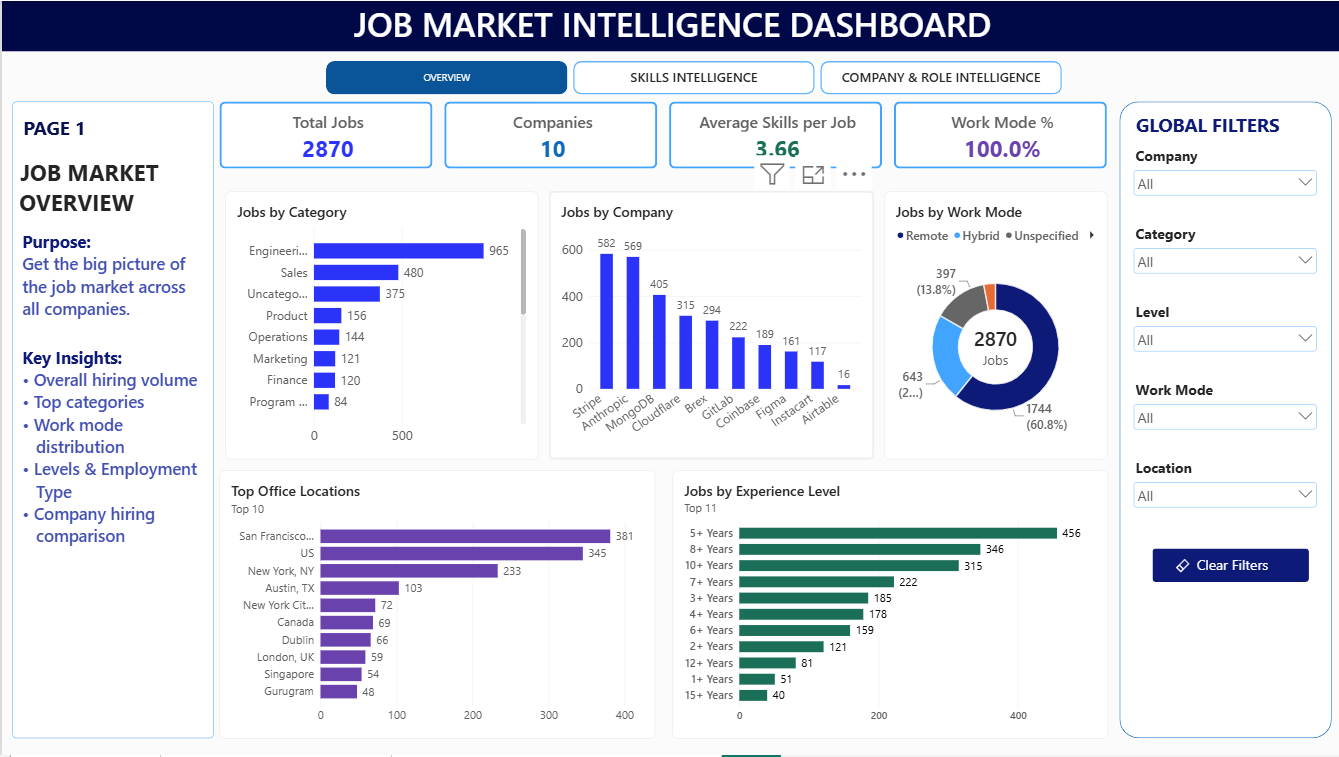

What the dashboard file says about the page in this screenshot:
{"tool":"powerbi","page":{"name":"OVERVIEW","canvas":[1920,1080],"ordinal":0},"visuals":[{"type":"textbox","box":[0,0,1920,72],"z":0},{"type":"cardVisual","fields":{"Data":["_Measures.Total Jobs","_Measures.Companies Hiring","_Measures.Average Skills per Job","_Measures.Work Mode %"]},"box":[312,144,1272,96],"z":2000},{"type":"clusteredBarChart","title":"Jobs by Category","fields":{"Category":["jobs.category"],"Y":["_Measures.Total Jobs"]},"box":[320,272,448,384],"z":3000},{"type":"clusteredColumnChart","title":"Jobs by Company","fields":{"Category":["companies.company_name"],"Y":["_Measures.Total Jobs"]},"box":[784,272,464,384],"z":4000},{"type":"donutChart","title":"Jobs by Work Mode","fields":{"Category":["jobs.work_mode"],"Y":["_Measures.Total Jobs"]},"box":[1264,272,320,384],"z":5000},{"type":"clusteredBarChart","title":"Jobs by Experience Level","fields":{"Category":["jobs.experience"],"Y":["_Measures.Total Jobs"]},"box":[960,672,624,384],"z":6000},{"type":"shape","box":[1600,144,304,912],"z":8000},{"type":"textbox","box":[1625,160,224,48],"z":9000},{"type":"slicer","fields":{"Values":["companies.company_name"]},"box":[1616,208,272,96],"z":10000},{"type":"slicer","fields":{"Values":["jobs.category"]},"box":[1616,320,272,80],"z":11000},{"type":"slicer","fields":{"Values":["jobs.level"]},"box":[1616,432,272,80],"z":12000},{"type":"slicer","fields":{"Values":["jobs.work_mode"]},"box":[1616,544,272,80],"z":13000},{"type":"slicer","fields":{"Values":["jobs.location"]},"box":[1616,656,272,80],"z":14000},{"type":"actionButton","box":[1648,784,224,48],"z":15000},{"type":"textbox","box":[16,144,288,912],"z":16000},{"type":"pageNavigator","box":[465,85,1056,48],"z":16001},{"type":"clusteredBarChart","title":"Top Office Locations","fields":{"Category":["jobs.office"],"Y":["_Measures.Total Jobs"]},"box":[312,672,624,384],"z":16002}]}

Visuals, with their boxes in screenshot pixels (x1, y1, x2, y2), scaled from the page's 1920x1080 canvas onto the 1339x757 screenshot:
textbox: (0, 0, 1338, 50)
cardVisual - _Measures.Total Jobs x _Measures.Companies Hiring: (218, 101, 1105, 168)
"Jobs by Category" clusteredBarChart: (223, 191, 536, 460)
"Jobs by Company" clusteredColumnChart: (547, 191, 870, 460)
"Jobs by Work Mode" donutChart: (882, 191, 1105, 460)
"Jobs by Experience Level" clusteredBarChart: (670, 471, 1105, 740)
shape: (1116, 101, 1328, 740)
textbox: (1133, 112, 1289, 146)
slicer - companies.company_name: (1127, 146, 1317, 213)
slicer - jobs.category: (1127, 224, 1317, 280)
slicer - jobs.level: (1127, 303, 1317, 359)
slicer - jobs.work_mode: (1127, 381, 1317, 437)
slicer - jobs.location: (1127, 460, 1317, 516)
actionButton: (1149, 550, 1306, 583)
textbox: (11, 101, 212, 740)
pageNavigator: (324, 60, 1061, 93)
"Top Office Locations" clusteredBarChart: (218, 471, 653, 740)
